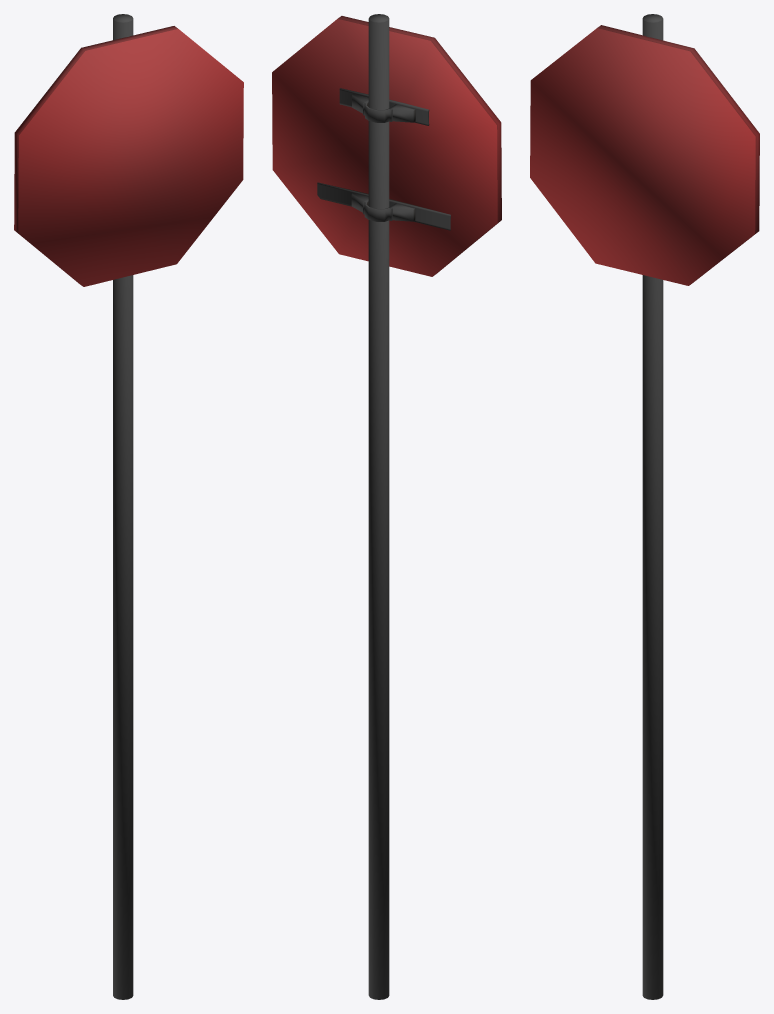
3 views of the same model, side by side, from view 1: azimuth 30°, elevation 25°; view 2: azimuth 150°, elevation 25°; view 3: azimuth 330°, elevation 25° (orthographic).
Visible parts, largest first — view 1: alt; view 2: alt; view 3: alt.
Boxes of the visible parts, x1,y1,x2,y2 form: alt: (14, 14, 243, 999); alt: (272, 14, 501, 999); alt: (530, 14, 759, 999).
Bounding box in the file's own units: 0.1208 × 0.5 × 0.0142.
